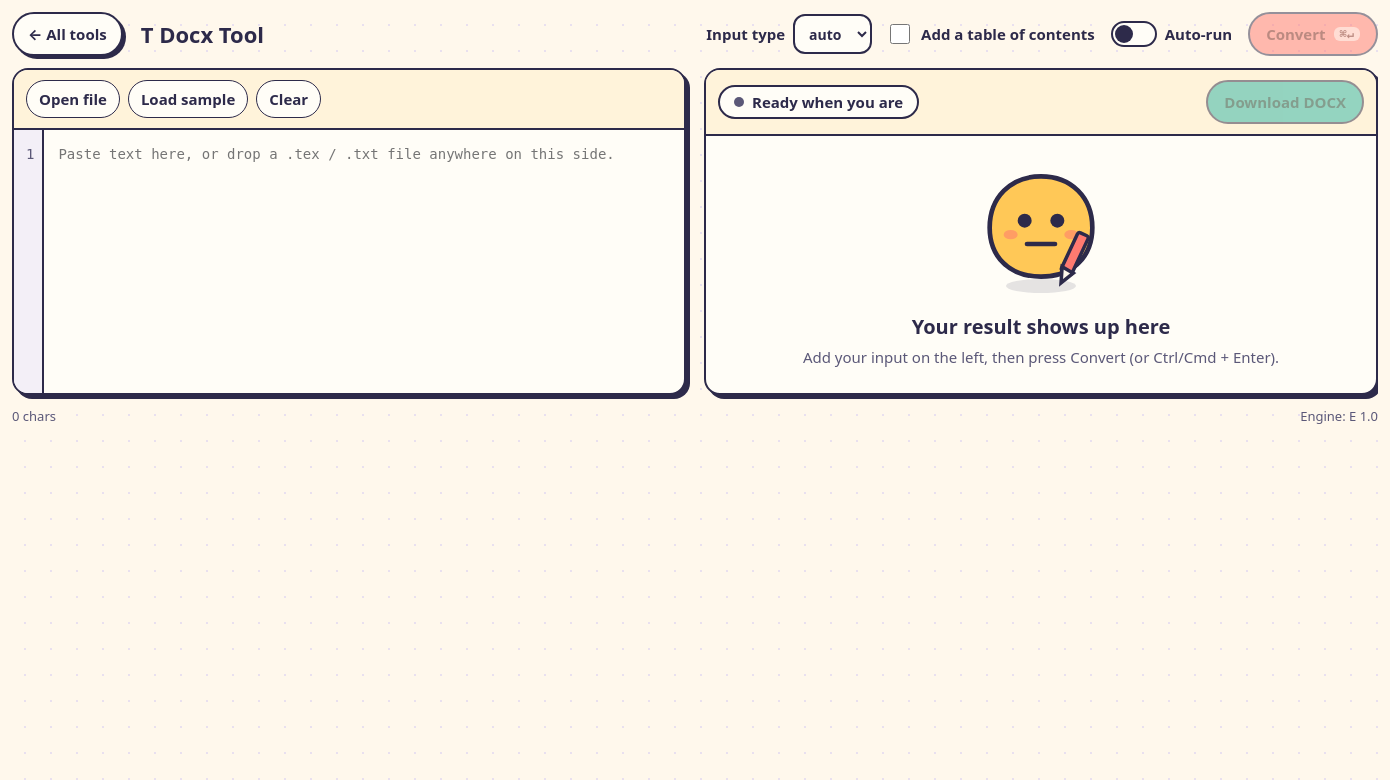
Test: running a text tool › tools with an html preview show it in a script-less sandboxed frame
This screenshot has width=1390, height=780.
Replace the text in the text box named "Input text" with "x": (364, 261) 44,130 -> 684,392
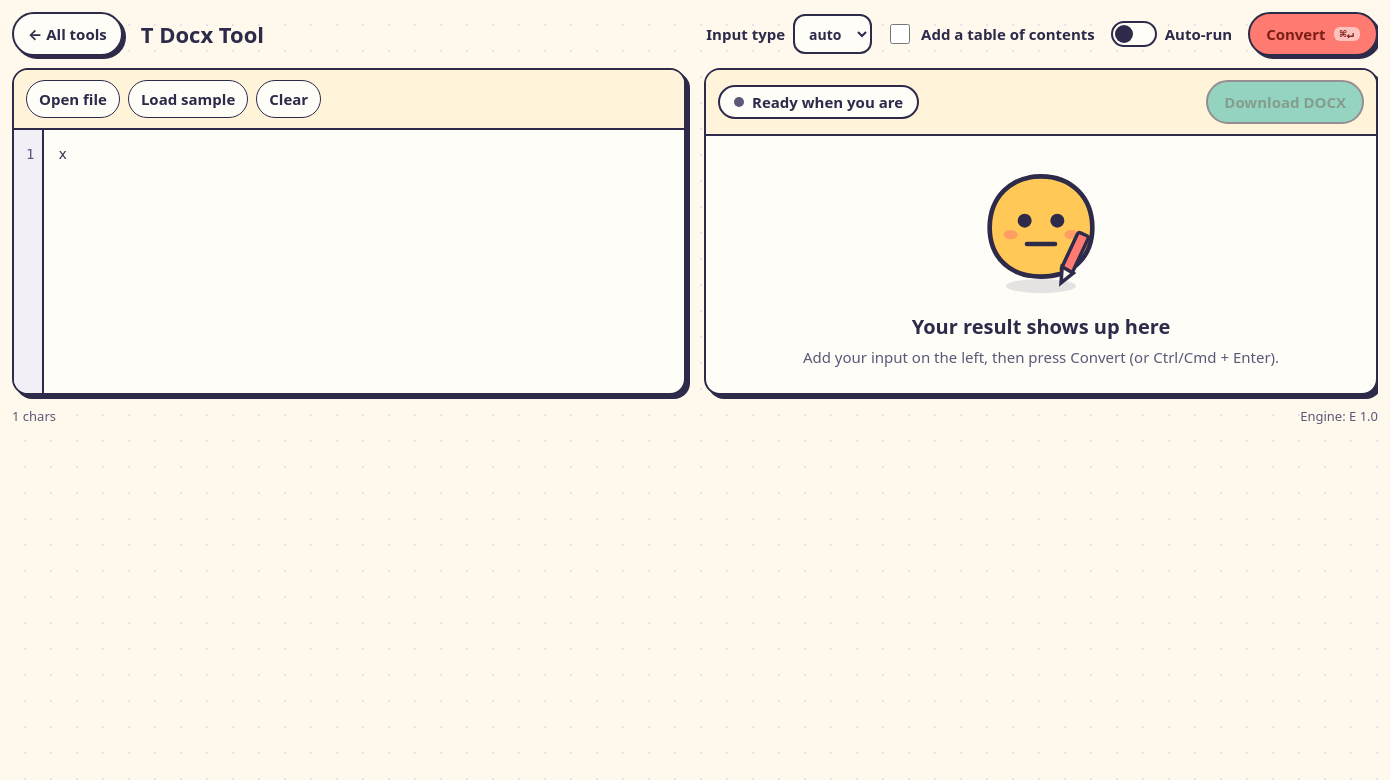
Click the button "Convert ⌘↵": click(1313, 34) 1248,12 -> 1378,56
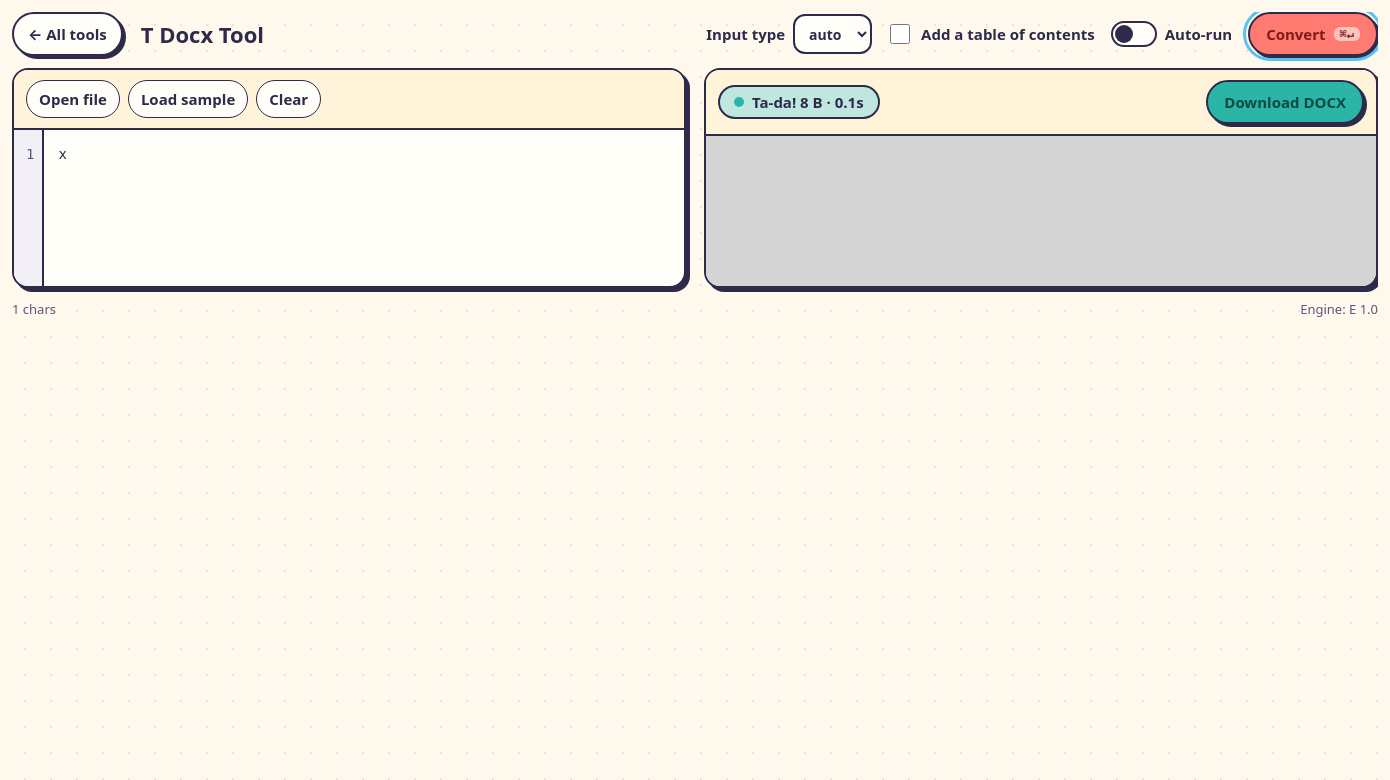
Expected: the message shows "Ta-da", 752,92 -> 864,112
